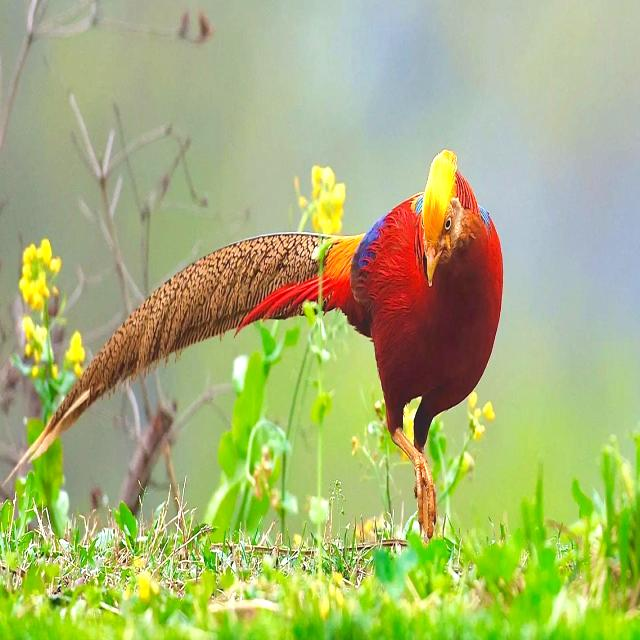Chrysolophus pictus feather: (9, 234, 322, 479)
